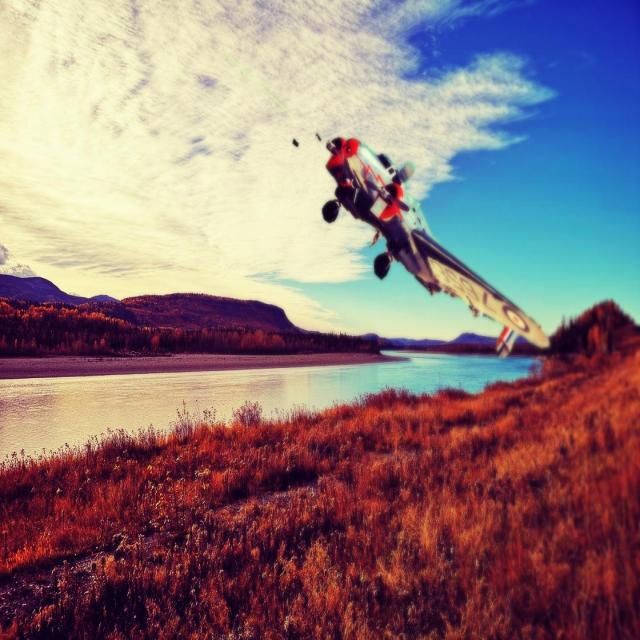airplane: (313, 131, 551, 358)
